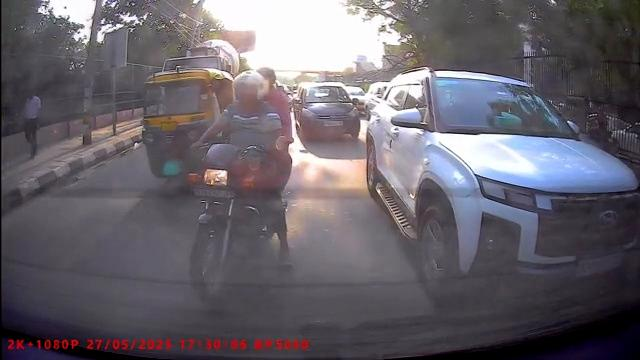passenger_without_helmet: (181, 65, 295, 305)
